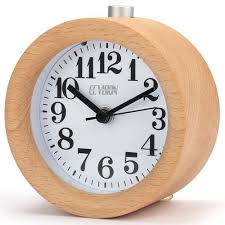alarm_clock: (4, 5, 222, 218)
